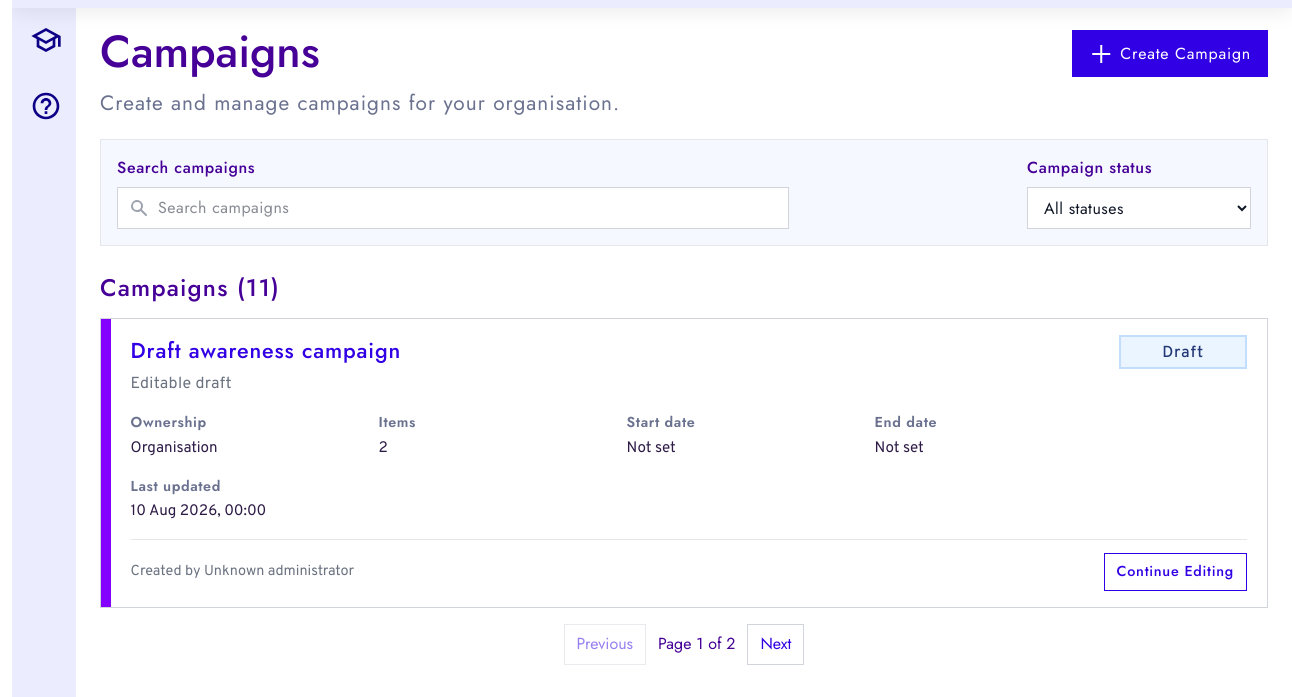
Scenario: CampaignManagementListPage › uses authoritative pagination metadata for Previous and Next
(page scrolled)
Expected: the text "Page 1 of 2" is shown, [658,632,736,656]
Expected: the button "Previous" is disabled, [564,624,646,665]
Click the button "Next". click: (776, 644)
box: [748,624,804,665]
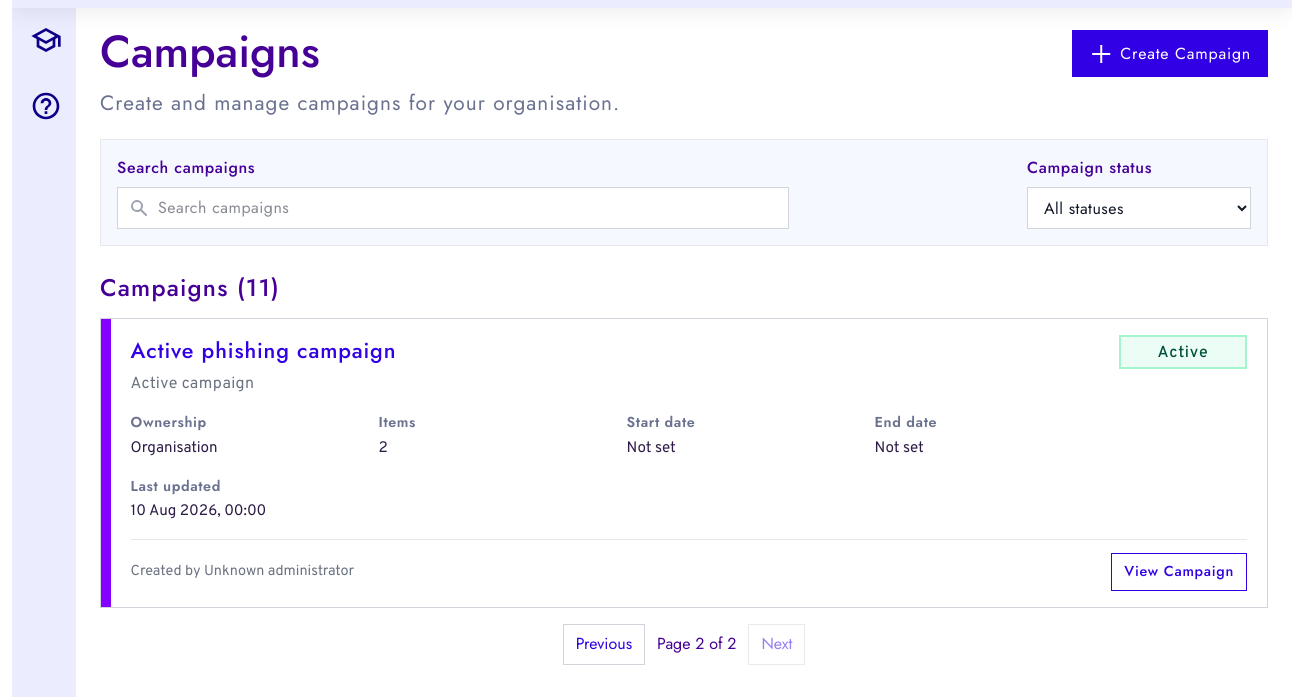
Expected: the text "Page 2 of 2" is shown, [657,632,736,656]
Expected: the button "Previous" is enabled
Expected: the button "Next" is disabled, [748,624,805,665]
Click the button "Previous". click: (604, 644)
box: [563,624,645,665]
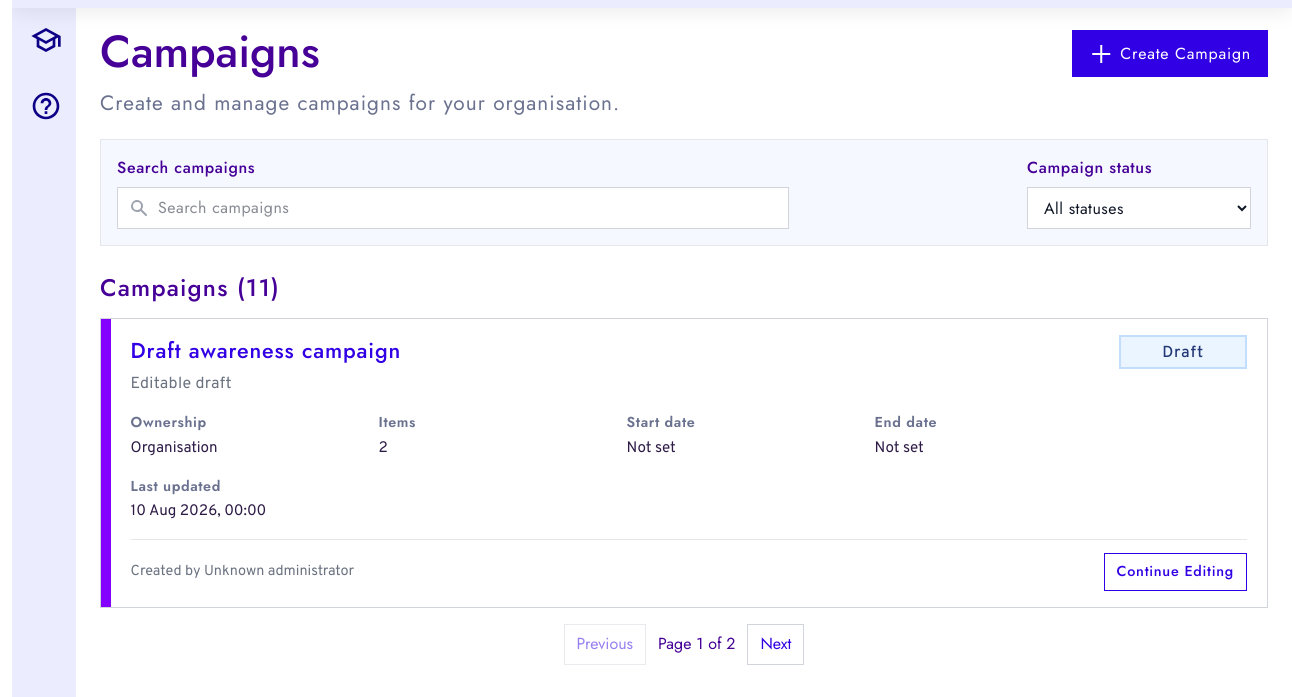
Expected: the text "Page 1 of 2" is shown, [658,632,736,656]
